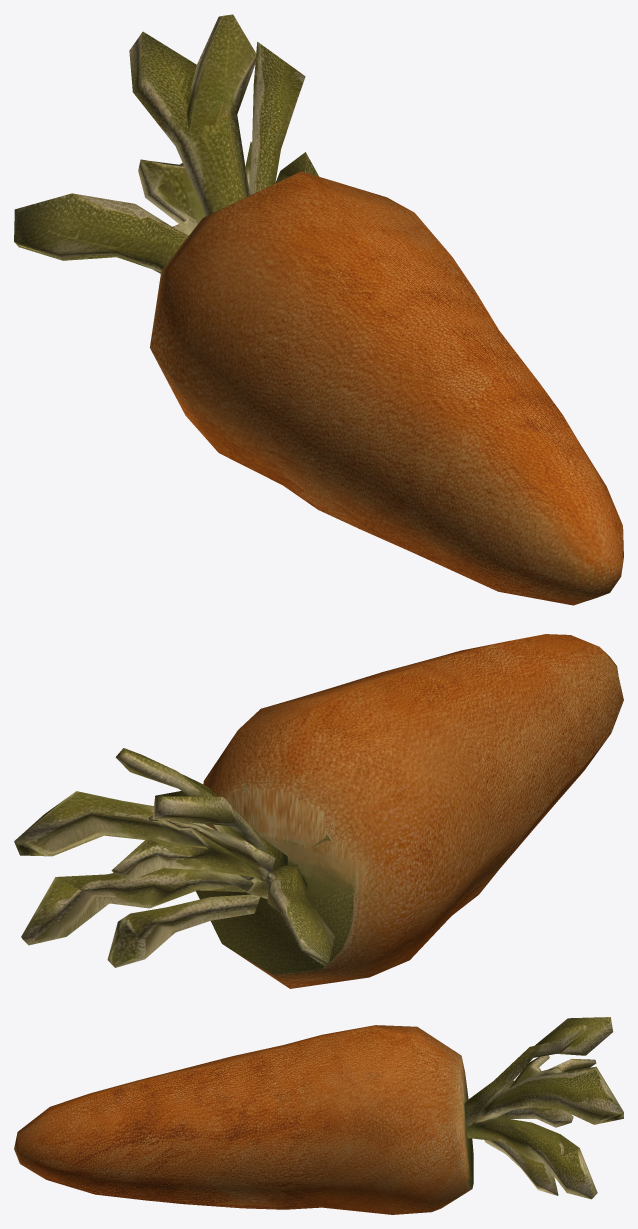
3 views of the same model, one above another, from view 1: azimuth 30°, elevation 25°; view 2: azimuth 150°, elevation 25°; view 3: azimuth 270°, elevation 25° (orthographic). The views are drawn at different scales.
Visible parts, largest first — view 1: tripo_node_b192ae53-0848-467b-b770-827ac5606407; view 2: tripo_node_b192ae53-0848-467b-b770-827ac5606407; view 3: tripo_node_b192ae53-0848-467b-b770-827ac5606407.
Boxes of the visible parts, x1,y1,x2,y2 form: tripo_node_b192ae53-0848-467b-b770-827ac5606407: (14,14,623,605); tripo_node_b192ae53-0848-467b-b770-827ac5606407: (14,634,623,988); tripo_node_b192ae53-0848-467b-b770-827ac5606407: (14,1017,623,1214).
Bounding box in the file's own units: 0.3848 × 0.377 × 0.998.
1 material, 1 textured.
